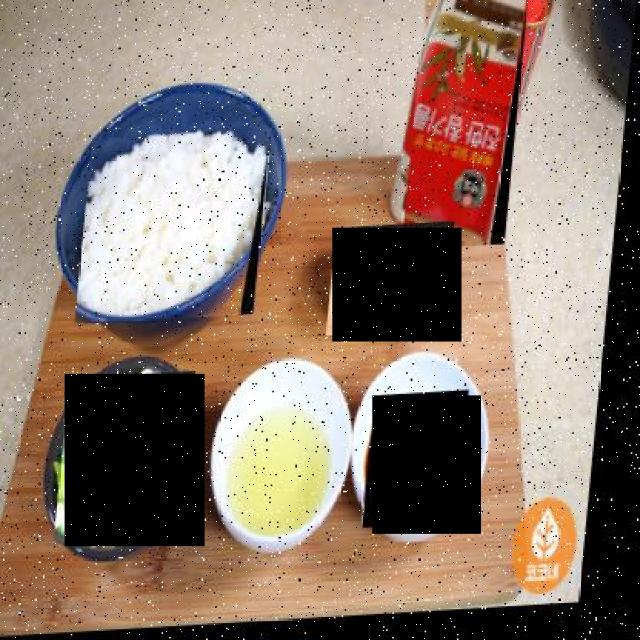Egg: (333, 227, 461, 342)
Onion_Leaves: (64, 374, 204, 546)
Soy_Sauce: (372, 396, 480, 535)
